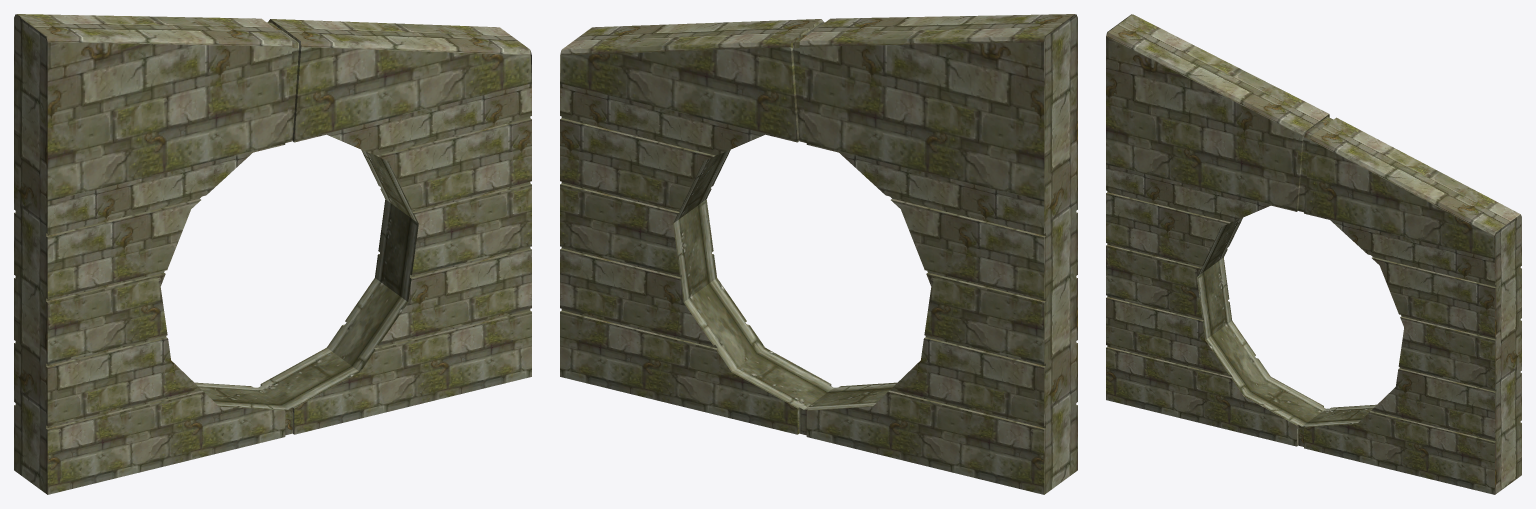
File: wall-07.fbx
3 renders of one model, left to right at view 1: azimuth 30°, elevation 25°; view 2: azimuth 150°, elevation 25°; view 3: azimuth 330°, elevation 25°, orthographic. The views are drawn at different scales.
Visible parts, largest first — view 1: Cube.172; view 2: Cube.172; view 3: Cube.172.
Boxes of the visible parts, x1=… form: Cube.172: x1=14, y1=14, x2=531, y2=494; Cube.172: x1=560, y1=14, x2=1077, y2=494; Cube.172: x1=1106, y1=14, x2=1521, y2=494.
Size of the model in its own units: 3.73 by 3.36 by 0.448.
